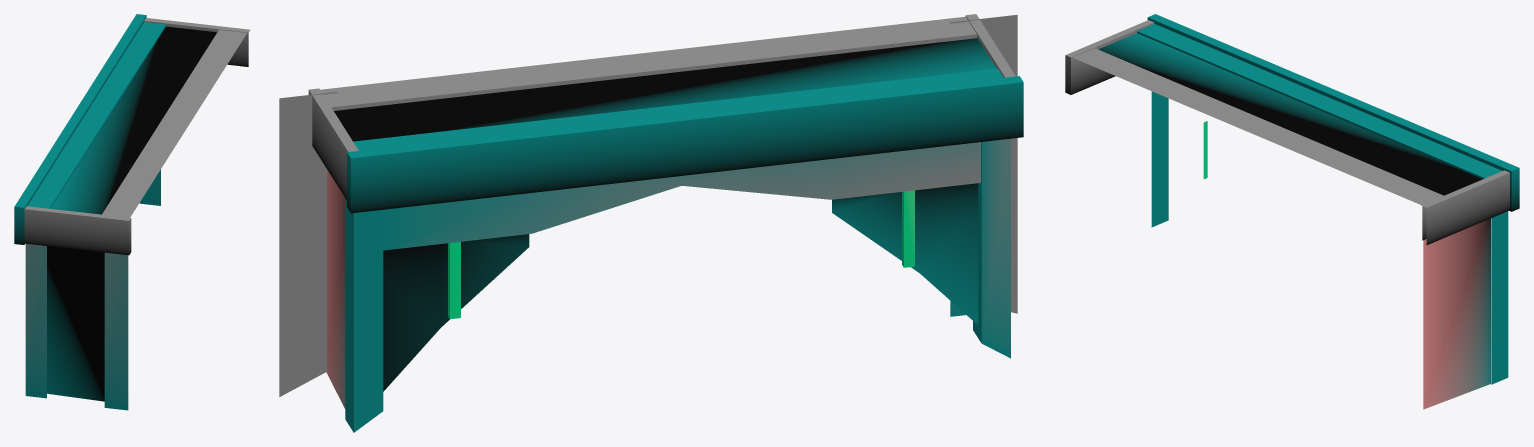
The model's file is SM_ENV_KNVLLG03_AreaF_BuildingAa.gltf.
The picture shows the model from 3 angles, left to right: view 1: azimuth 30°, elevation 25°; view 2: azimuth 150°, elevation 25°; view 3: azimuth 270°, elevation 25°; orthographic projection. The views are drawn at different scales.
Visible parts, largest first — view 1: SM_ENV_KNVLLG03_AreaF_BuildingAa; view 2: SM_ENV_KNVLLG03_AreaF_BuildingAa; view 3: SM_ENV_KNVLLG03_AreaF_BuildingAa.
Boxes of the visible parts, x1,y1,x2,y2 form: SM_ENV_KNVLLG03_AreaF_BuildingAa: (14,14,249,410); SM_ENV_KNVLLG03_AreaF_BuildingAa: (279,14,1023,432); SM_ENV_KNVLLG03_AreaF_BuildingAa: (1065,14,1519,409).
Size of the model in its own units: 6.7 by 3.54 by 6.74.
